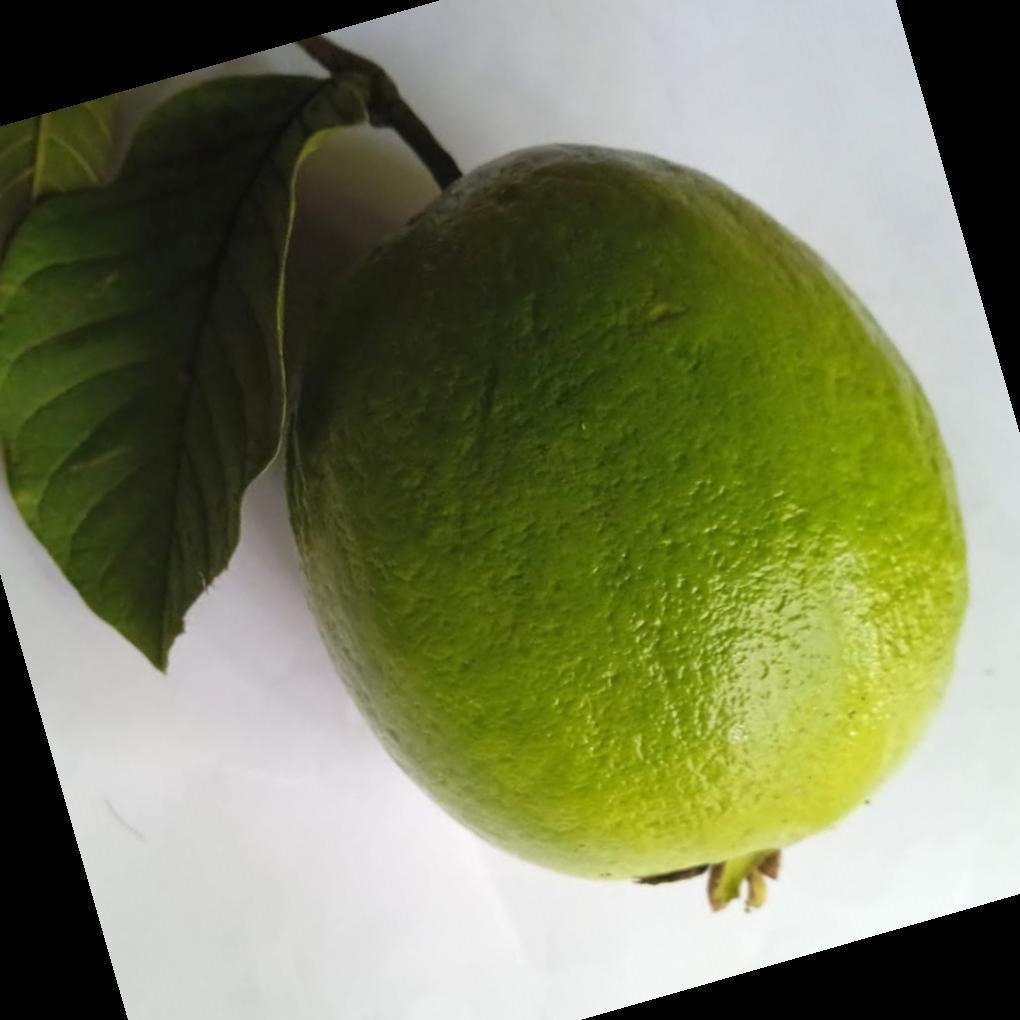FreshGuava: (282, 145, 971, 908)
